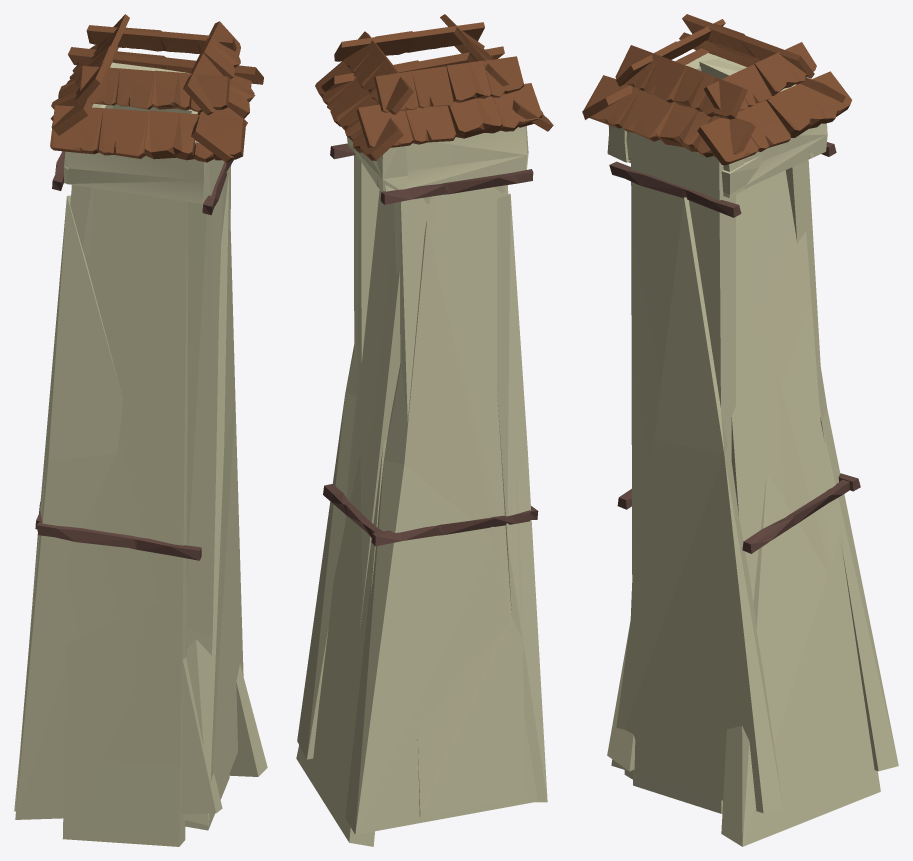
The model's file is HenChem.fbx.
3 views of the same model, side by side, from view 1: azimuth 30°, elevation 25°; view 2: azimuth 150°, elevation 25°; view 3: azimuth 270°, elevation 25° (orthographic). The views are drawn at different scales.
Visible parts, largest first — view 1: HenChem_Merged; view 2: HenChem_Merged; view 3: HenChem_Merged.
Boxes of the visible parts, left/top/right/bottom form: HenChem_Merged: left=14, top=14, right=267, bottom=846; HenChem_Merged: left=296, top=14, right=553, bottom=846; HenChem_Merged: left=582, top=14, right=898, bottom=846.
Bounding box in the file's own units: 370 × 1060 × 406.
